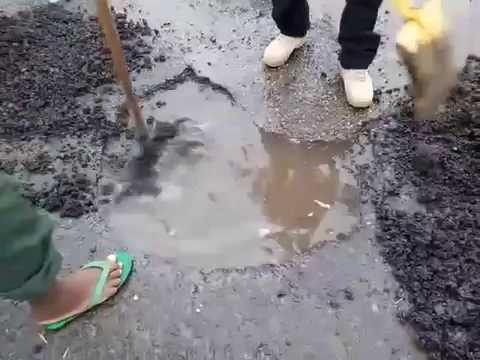Pothole: (77, 57, 398, 308)
